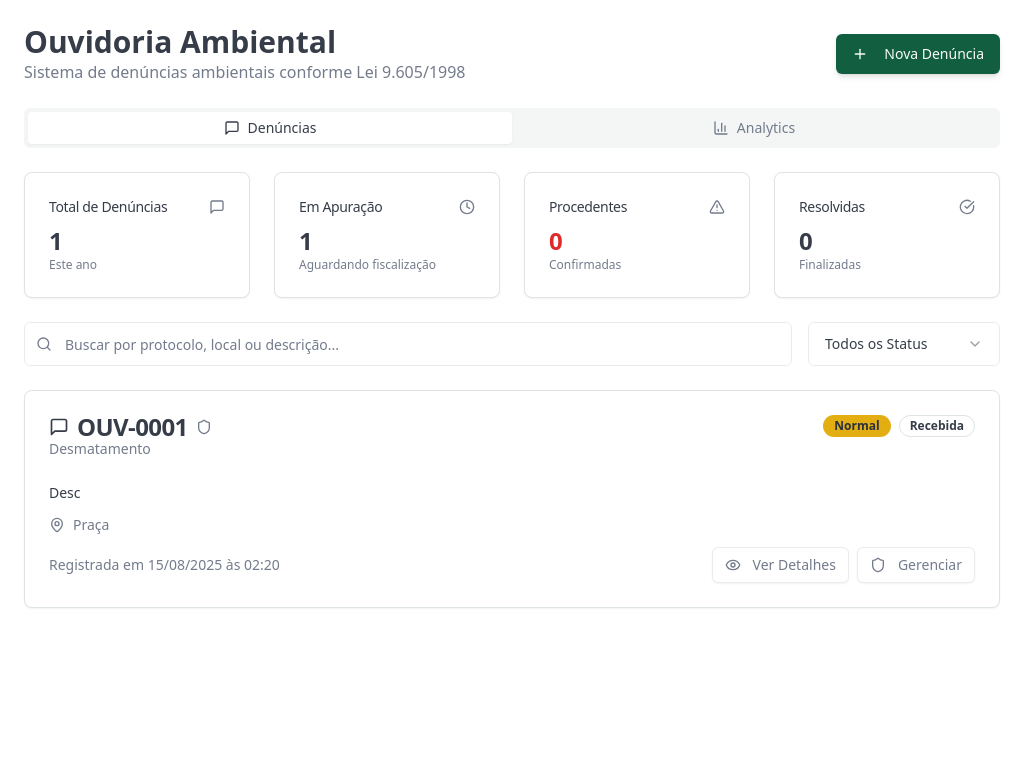
Scenario: Página de Ouvidoria › abre o diálogo de Nova Denúncia ao clicar no botão
expect the heading "Ouvidoria Ambiental" is shown: met, box [24,21,336,62]
Click the button "Nova Denúncia".
click(918, 54)  # box [836,34,1000,74]
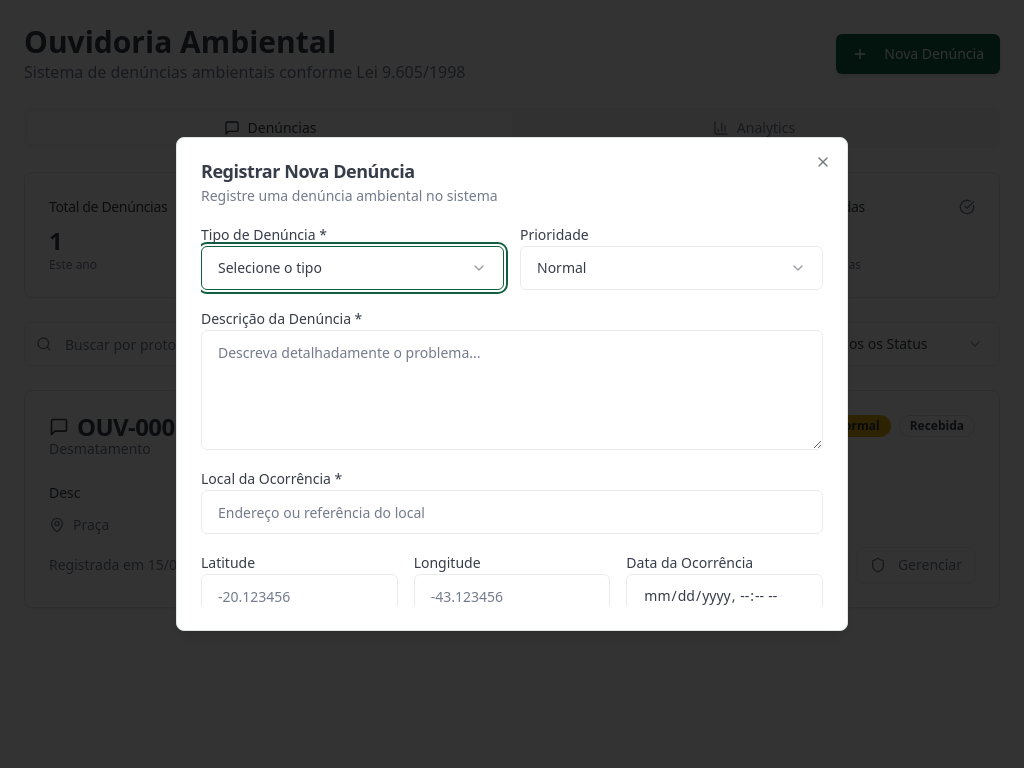
expect the heading "Registrar Nova Denúncia" is shown: met, box [201,159,415,183]
expect the text "Selecione o tipo" is shown: met, box [218,258,322,278]
expect the text box labelled "Descrição da Denúncia *" is shown: met, box [201,330,823,450]
